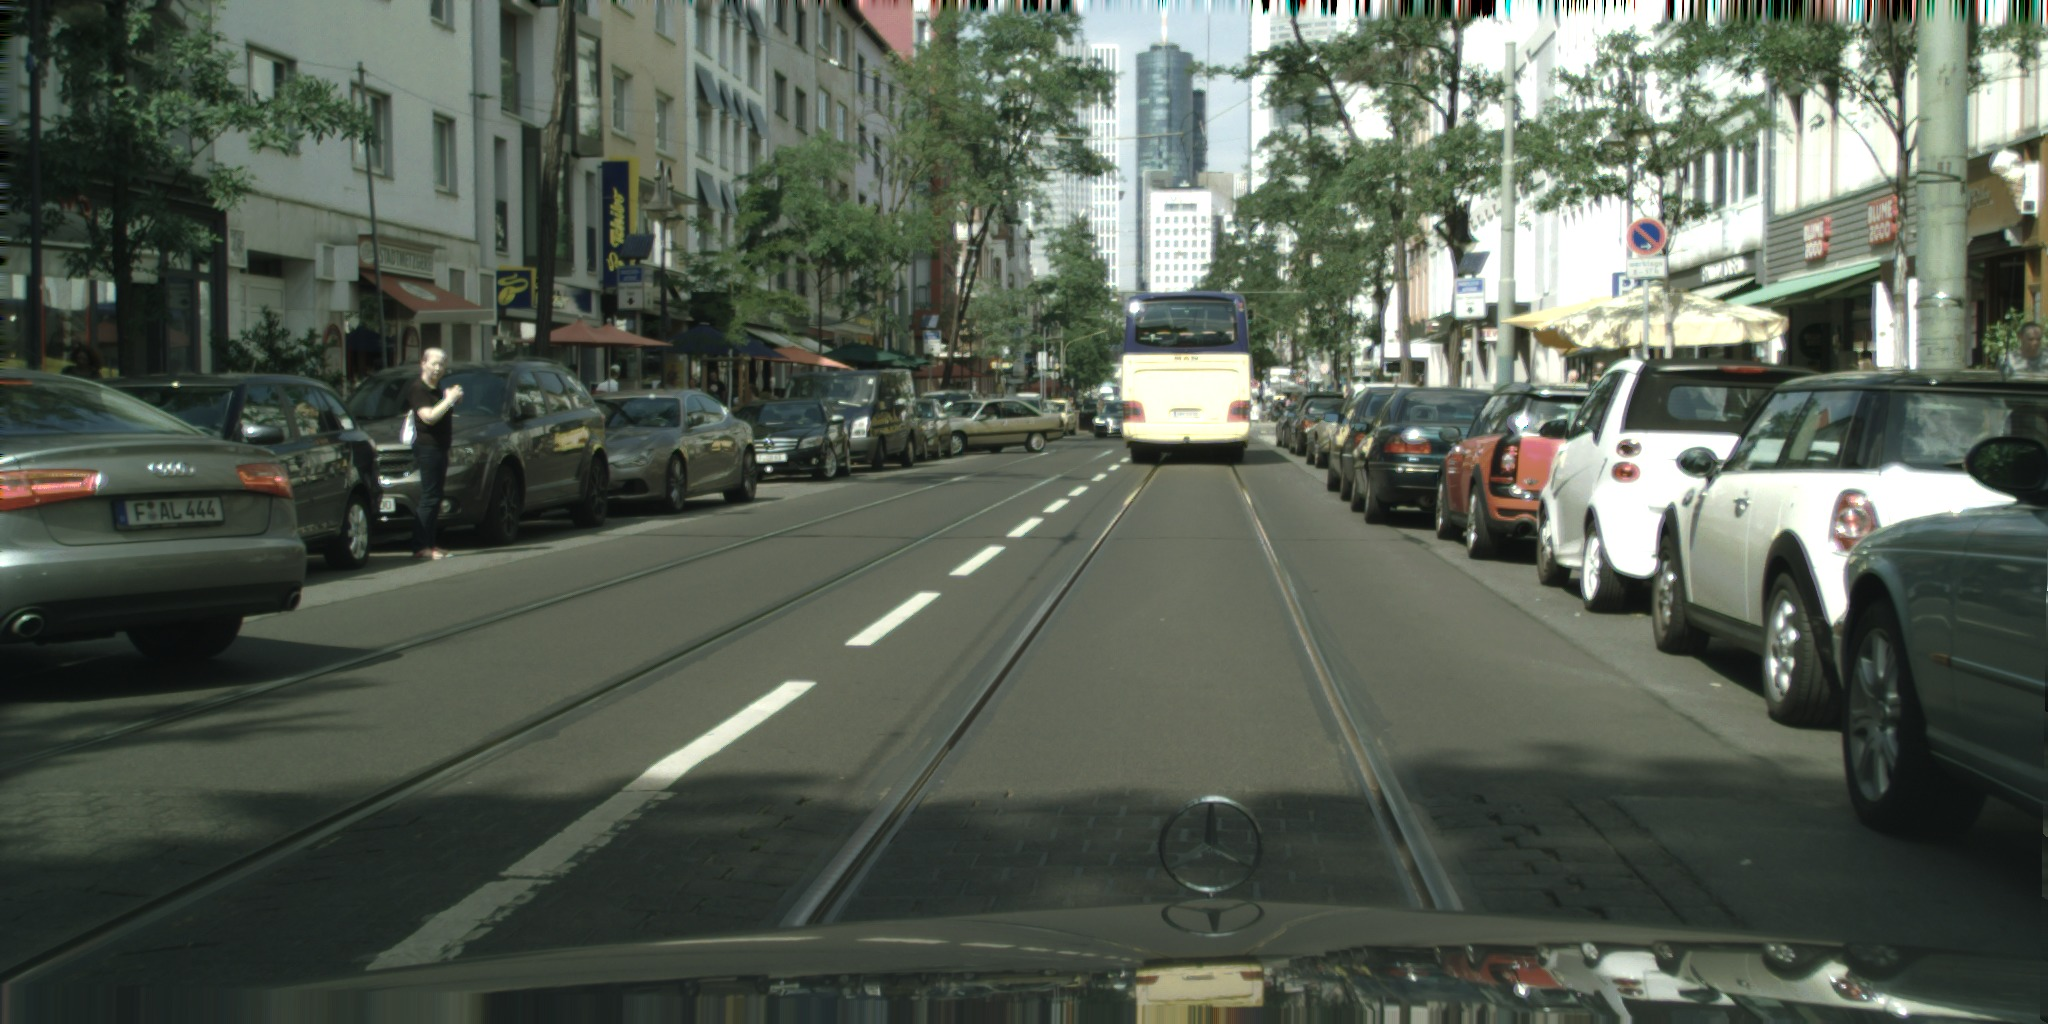bus: (1121, 290, 1251, 464)
car: (1650, 369, 2047, 729), (0, 367, 306, 667), (1840, 435, 2047, 845), (1536, 357, 1820, 613), (83, 374, 385, 572), (328, 356, 611, 547), (1435, 382, 1595, 559), (573, 389, 758, 514), (1351, 388, 1497, 524), (779, 368, 917, 472), (719, 397, 852, 483), (1322, 381, 1417, 501), (938, 399, 1064, 456), (1304, 401, 1354, 468), (899, 398, 952, 461), (915, 389, 1009, 425), (899, 398, 939, 461), (1080, 380, 1120, 418), (1037, 399, 1077, 436), (1092, 400, 1131, 438), (1001, 392, 1048, 416), (1098, 380, 1120, 415), (978, 392, 1009, 415)
person: (405, 348, 464, 559), (1996, 321, 2047, 406), (53, 342, 106, 397), (588, 363, 621, 404), (1560, 369, 1581, 410), (1587, 361, 1608, 400), (706, 370, 726, 410), (759, 391, 780, 410), (1096, 393, 1106, 420), (684, 377, 700, 394), (564, 362, 578, 380), (1093, 386, 1097, 397)
